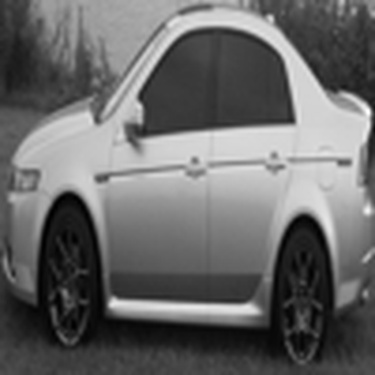car: (12, 7, 358, 347)
